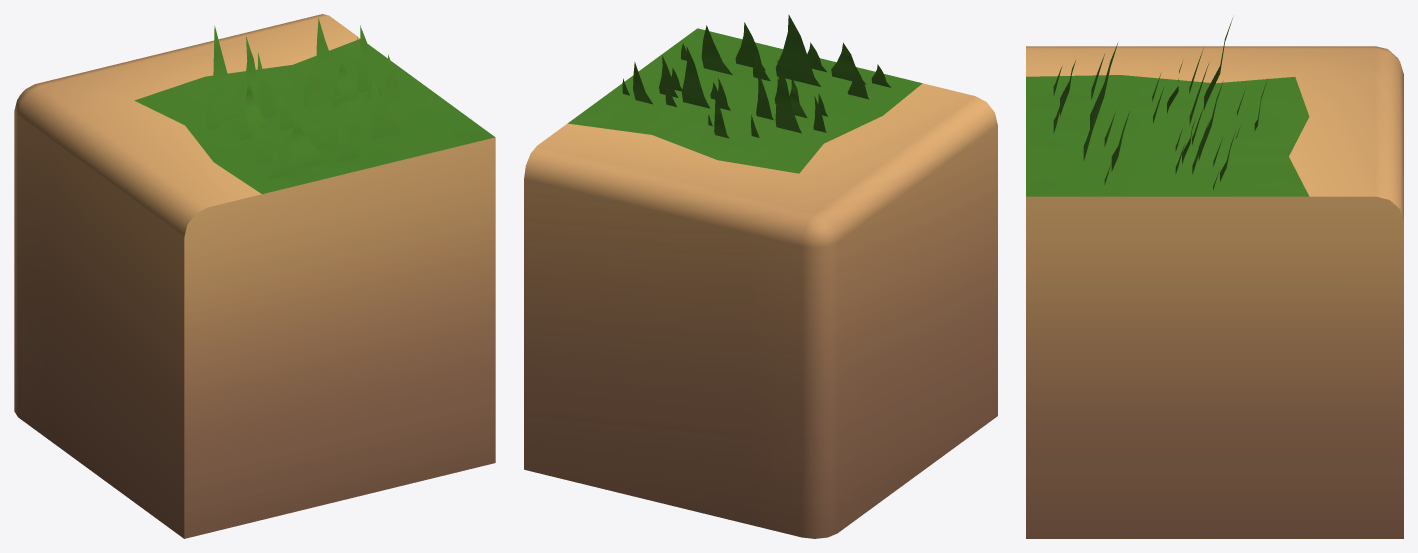
The model's file is ucorner d tile.fbx.
3 views of the same model, side by side, from view 1: azimuth 30°, elevation 25°; view 2: azimuth 150°, elevation 25°; view 3: azimuth 270°, elevation 25° (orthographic). The views are drawn at different scales.
Visible parts, largest first — view 1: uc_d_tile, uc_d_grass; view 2: uc_d_tile, uc_d_grass; view 3: uc_d_tile, uc_d_grass.
Boxes of the visible parts, x1,y1,x2,y2 form: uc_d_tile: [14, 14, 495, 538]; uc_d_grass: [204, 18, 437, 179]; uc_d_tile: [524, 28, 997, 538]; uc_d_grass: [622, 14, 891, 138]; uc_d_tile: [1026, 46, 1403, 538]; uc_d_grass: [1053, 18, 1267, 189].
Bounding box in the file's own units: 10 × 12.6 × 10.
